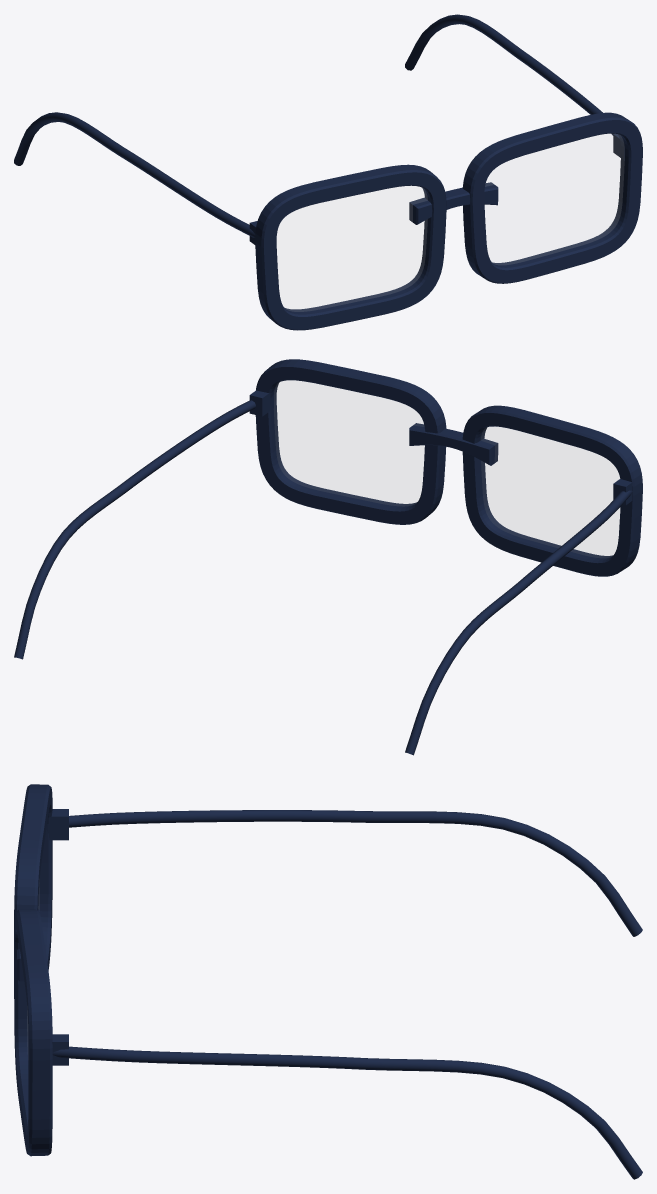
File: NY-W07_Sana_Navy.glb
3 views of the same model, one above another, from view 1: azimuth 30°, elevation 25°; view 2: azimuth 150°, elevation 25°; view 3: azimuth 270°, elevation 25° (orthographic). The views are drawn at different scales.
Visible parts, largest first — view 1: Sana_Navy_Acetate, Sana_Navy_Lenses; view 2: Sana_Navy_Acetate, Sana_Navy_Lenses; view 3: Sana_Navy_Acetate.
Part boxes in pixels (bbox=[...]): Sana_Navy_Acetate: bbox=[14, 14, 642, 330]; Sana_Navy_Lenses: bbox=[277, 134, 623, 311]; Sana_Navy_Acetate: bbox=[14, 359, 642, 755]; Sana_Navy_Lenses: bbox=[274, 381, 619, 557]; Sana_Navy_Acetate: bbox=[14, 784, 642, 1179].
Bounding box in the file's own units: 0.1387 × 0.0456 × 0.1452.
